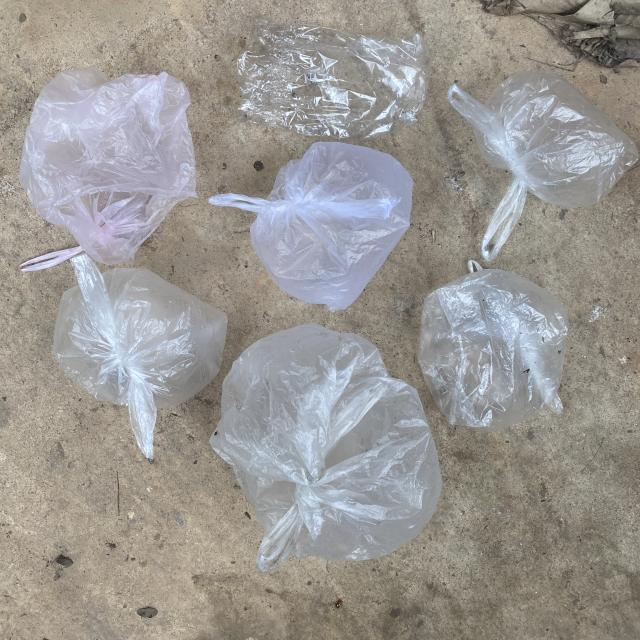Single-layer Plastic: (210, 324, 441, 571), (19, 66, 196, 271), (448, 71, 639, 260), (54, 255, 226, 459), (209, 142, 412, 311), (419, 261, 569, 431), (238, 18, 431, 139)
